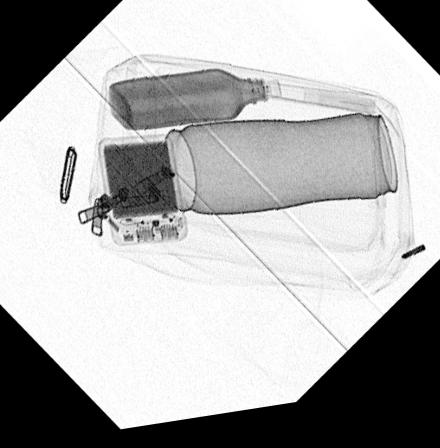Powerbank: (97, 139, 187, 251)
